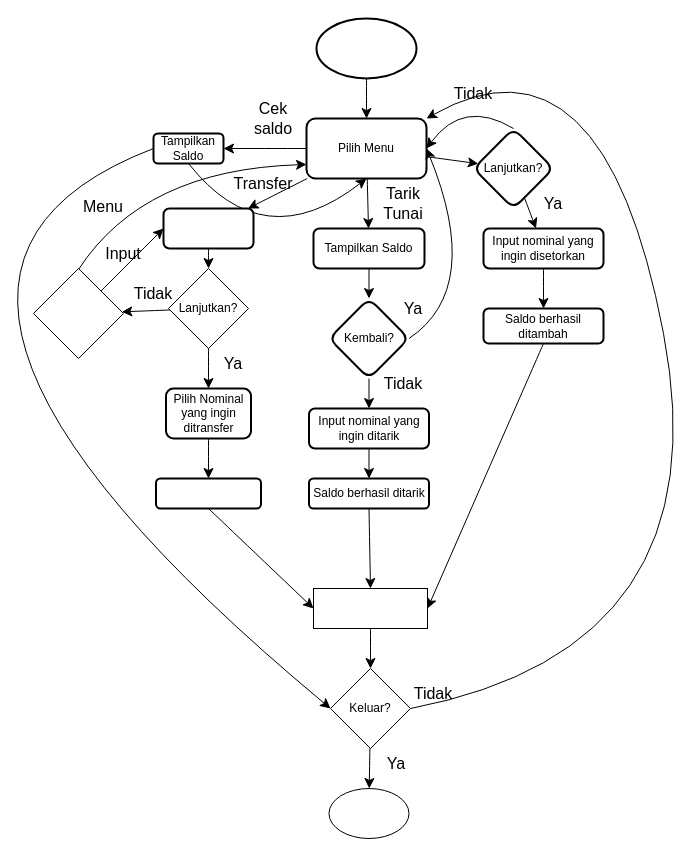
The diagram is 691 pixels wide and 856 high, and some of its shapes have lost their labels. Here are the shapes that lost their labels. From the top down, the box of each, then its label:
(315, 17, 417, 79): Start
(162, 207, 254, 249): Input nomor transaksi
(32, 268, 124, 358): Kembali ke menu/input nomor transaksi?
(154, 477, 262, 509): Transfer Berhasil
(312, 588, 428, 628): Update Saldo (Tampilkan Saldo Terbaru)
(328, 788, 409, 838): End
